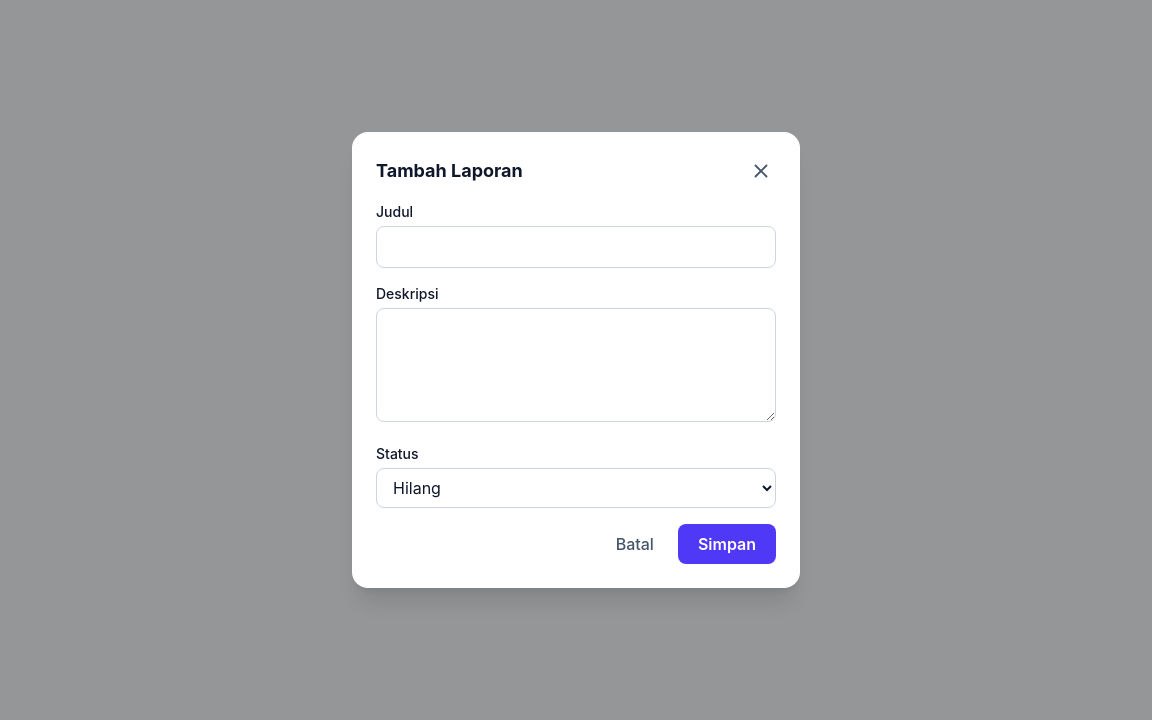
it: AddModal › hanya menampilkan error judul jika deskripsi sudah diisi
In the text box labelled "Deskripsi": (576, 365) [376,308,776,422], type "Warna hitam"
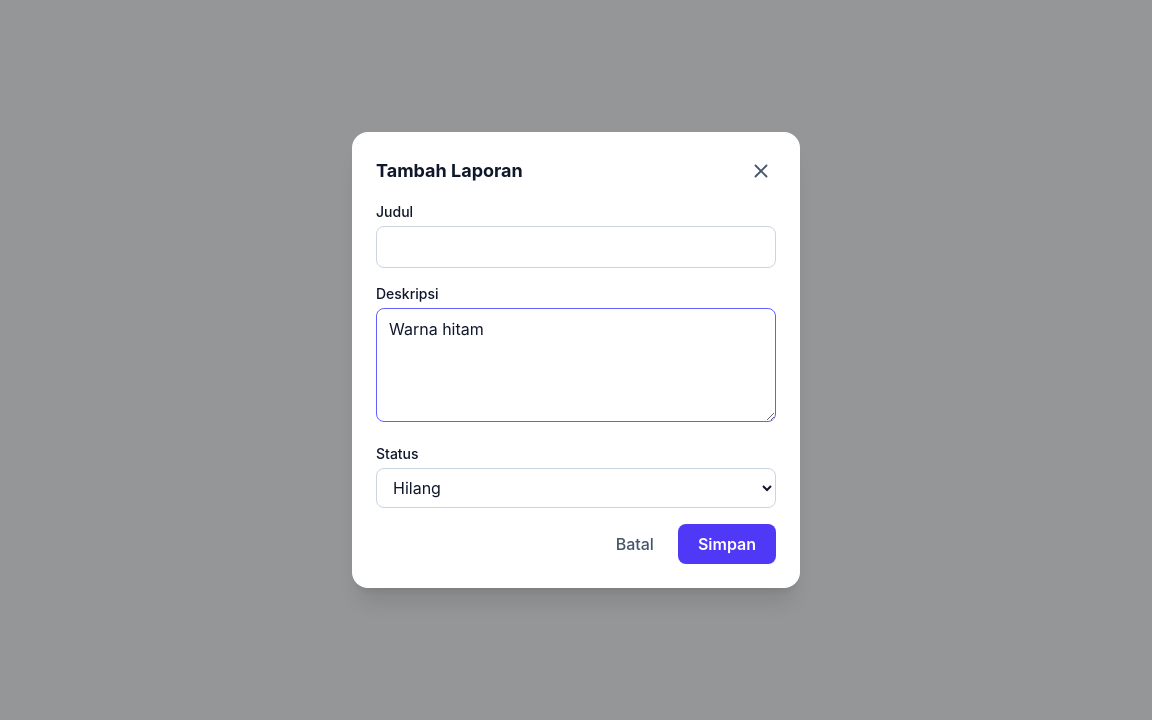
Click the button "Simpan": (727, 544) [678,524,776,564]
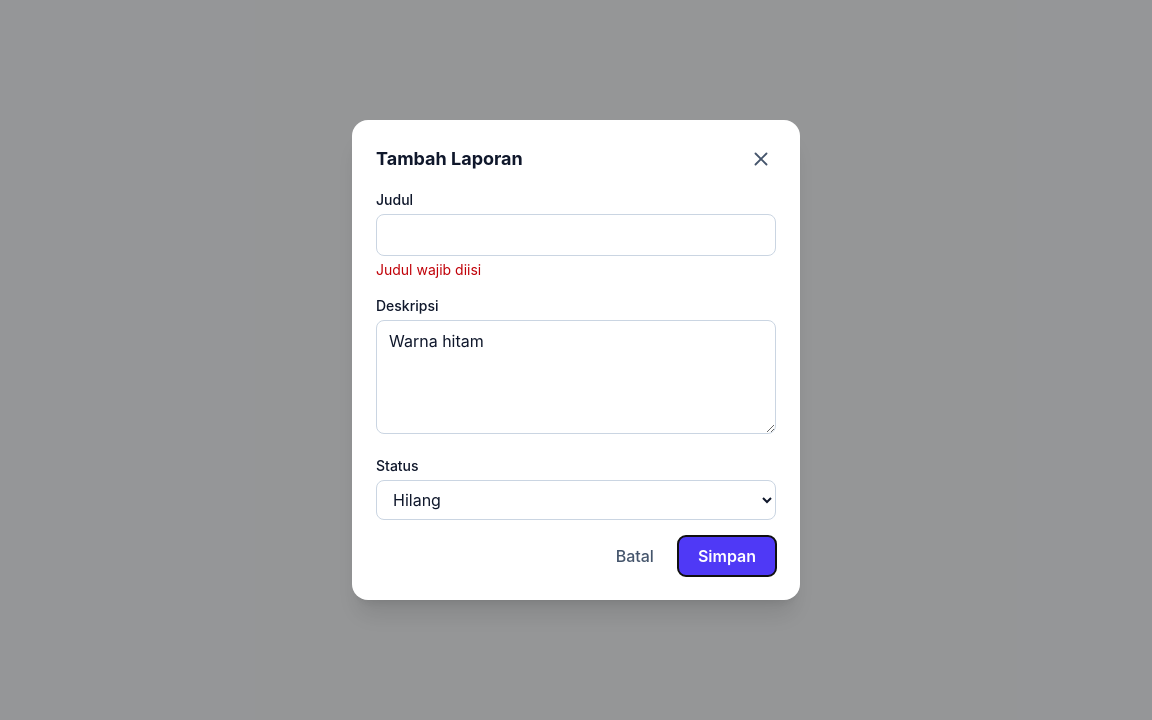
Expected: the text "Judul wajib diisi" is shown, [376,261,481,278]
